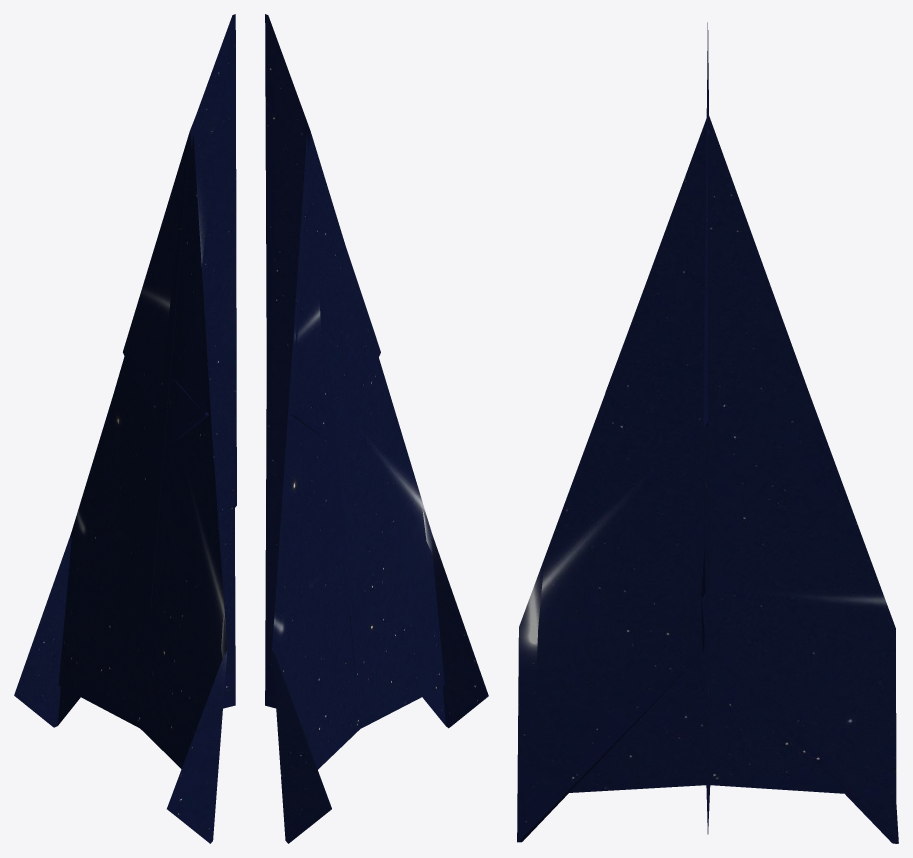
3 views of the same model, side by side, from view 1: azimuth 30°, elevation 25°; view 2: azimuth 150°, elevation 25°; view 3: azimuth 270°, elevation 25° (orthographic). The views are drawn at different scales.
Parts seen in each view (by area): view 1: Origami_Model_19.001; view 2: Origami_Model_19.001; view 3: Origami_Model_19.001.
Part boxes in pixels (x1,y1,x2,y2): Origami_Model_19.001: (14, 14, 236, 843); Origami_Model_19.001: (265, 14, 488, 843); Origami_Model_19.001: (517, 22, 898, 843).
Size of the model in its own units: 0.0441 by 0.2158 by 0.0841.
1 material, 1 textured.
